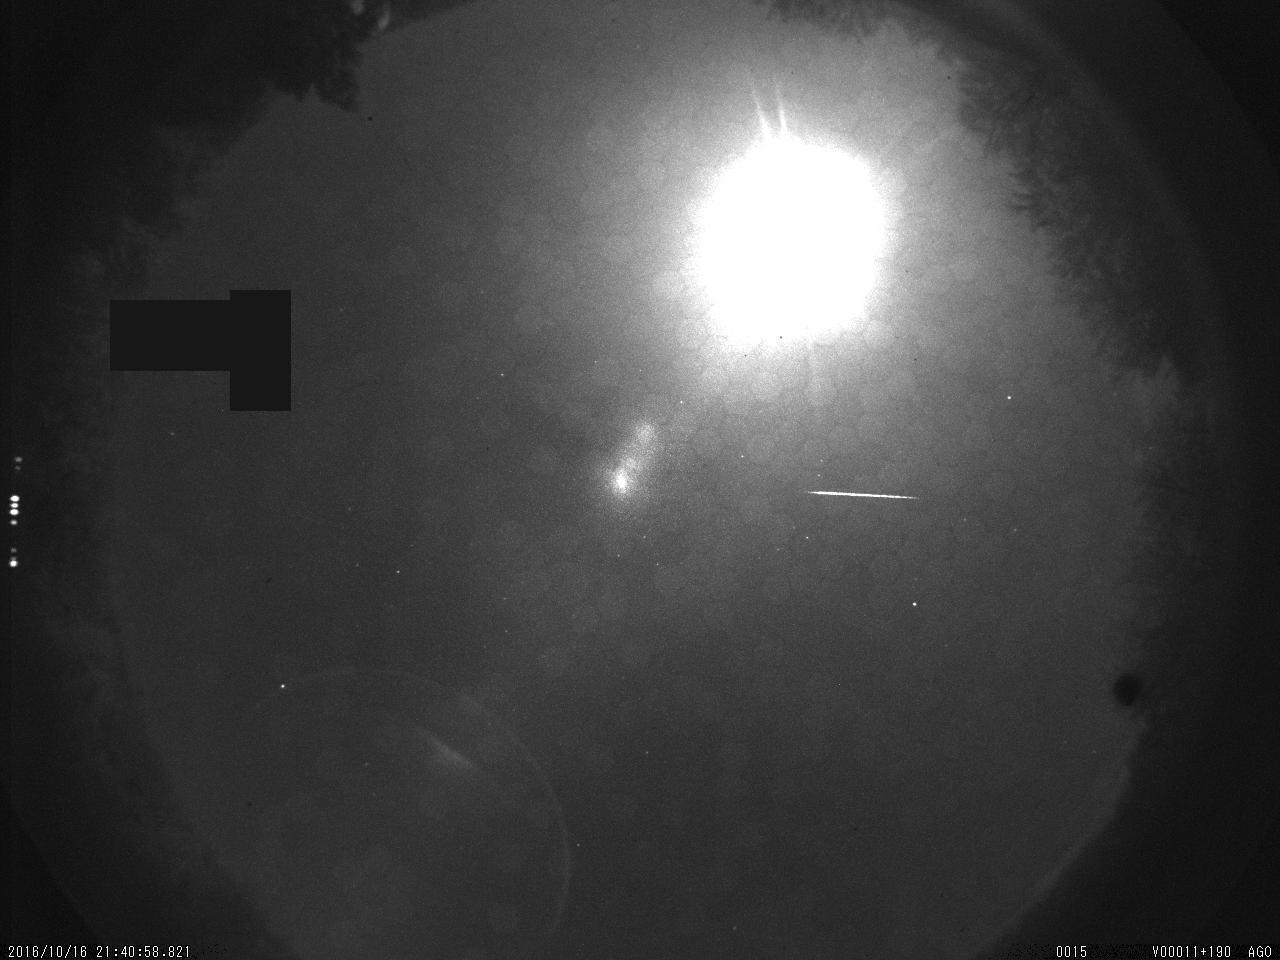Meteor: (809, 486, 924, 501)
